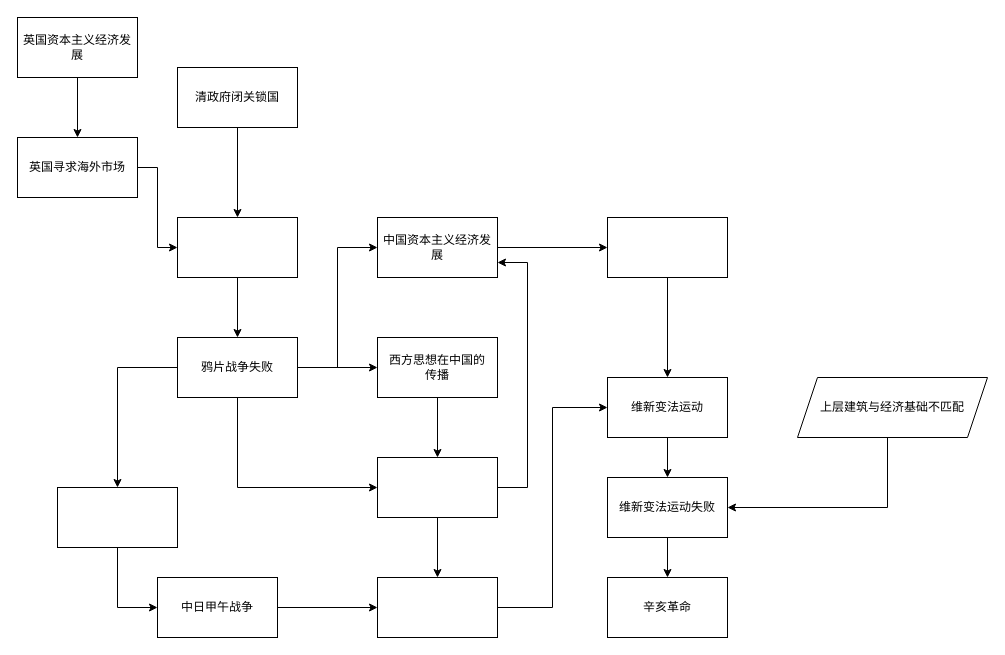
Some shapes in this 1005 by 655 pixel diagram are drawn without their labels. The centre of each missing label's shape, as x and y in pixels:
"中国资产阶级发展" goes at (667,247).
"日本明治维新" goes at (117,517).
"洋务运动" goes at (437,487).
"洋务运动失败" goes at (437,607).
"鸦片战争" goes at (237,247).
